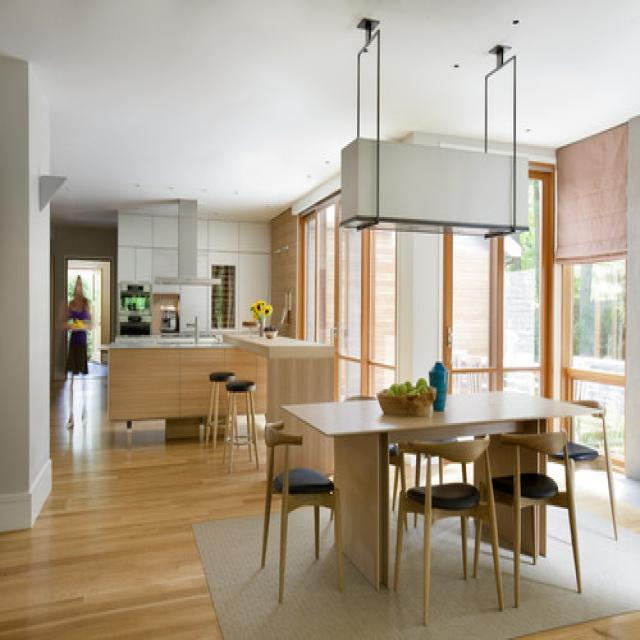modern chair: (398, 436, 508, 624), (260, 416, 348, 601), (502, 428, 583, 603)
modern desk: (282, 386, 611, 594)
